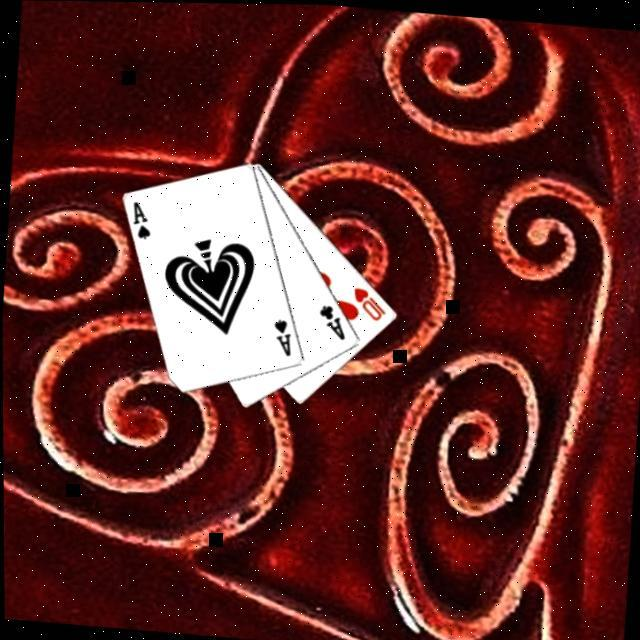10H: (346, 280, 389, 322)
AC: (312, 299, 348, 342)
AS: (126, 196, 154, 241), (268, 313, 294, 357)
